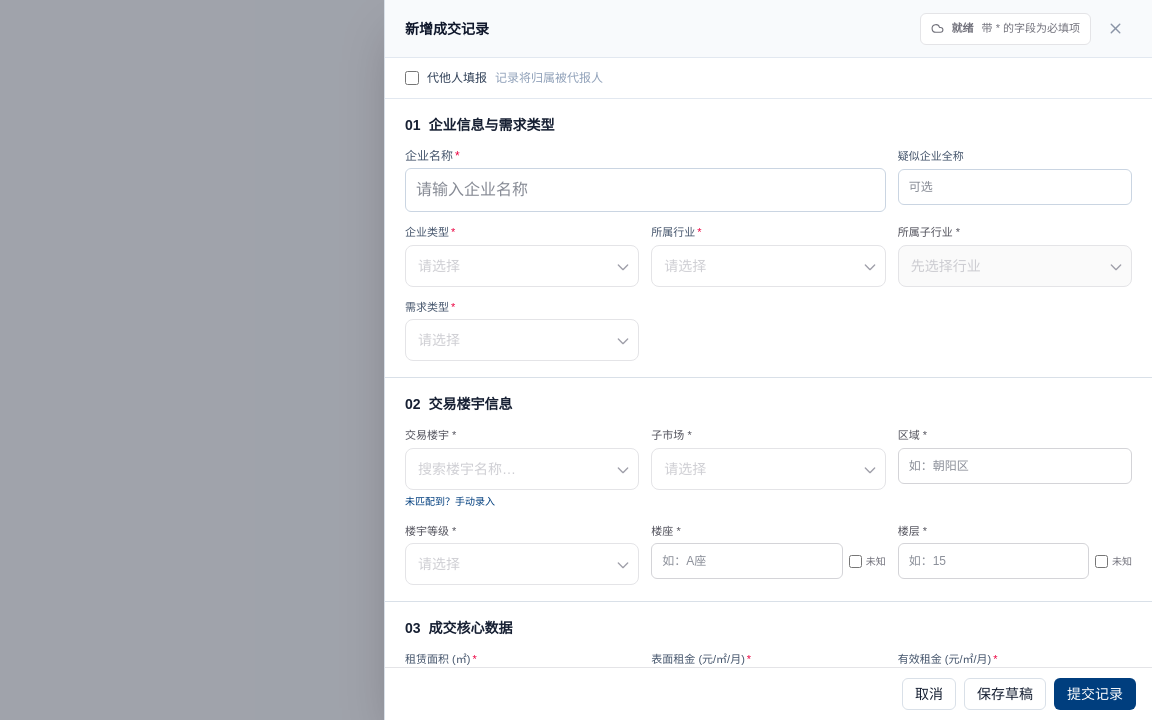
Test case: 新增成交的企业联想与近期成交 › offers history for an exact typed name without a selection and retries a failed read without clearing the name
Expected: the button "保存草稿" is enabled, [964,678,1046,710]
Type "手填企业" into the dropdown labelled "企业名称" at (645, 190), box [405,168,886,212]
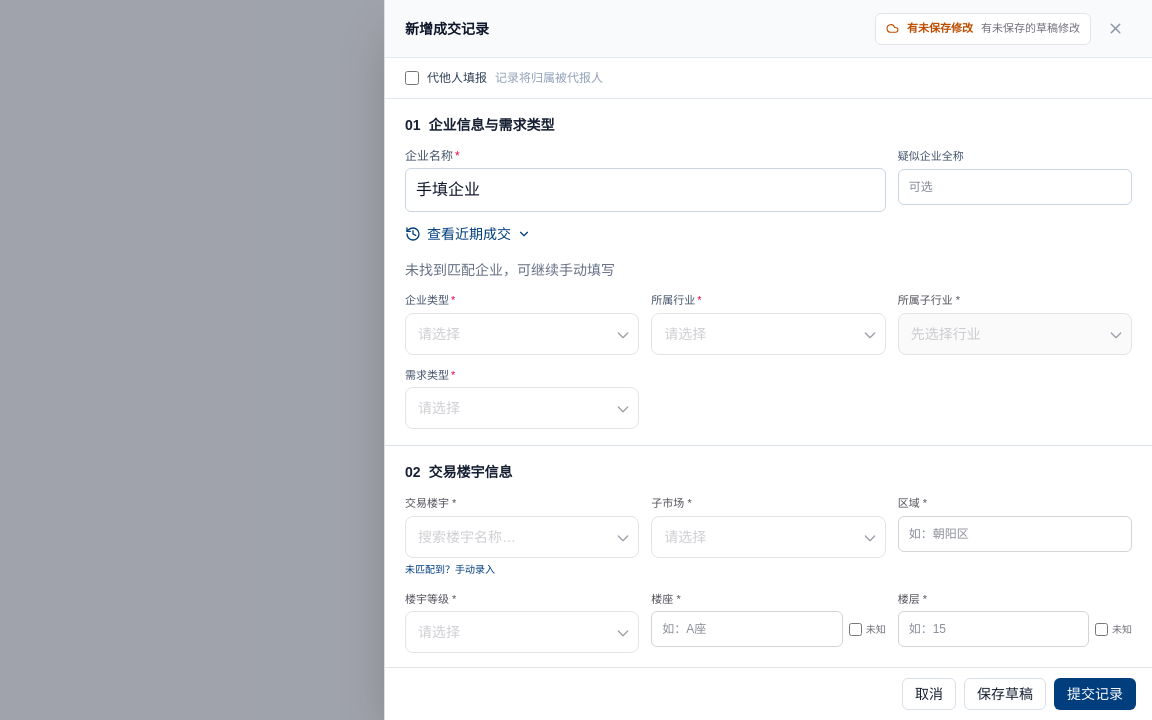
Click the button "查看近期成交" at (468, 234), box [405,212,531,256]
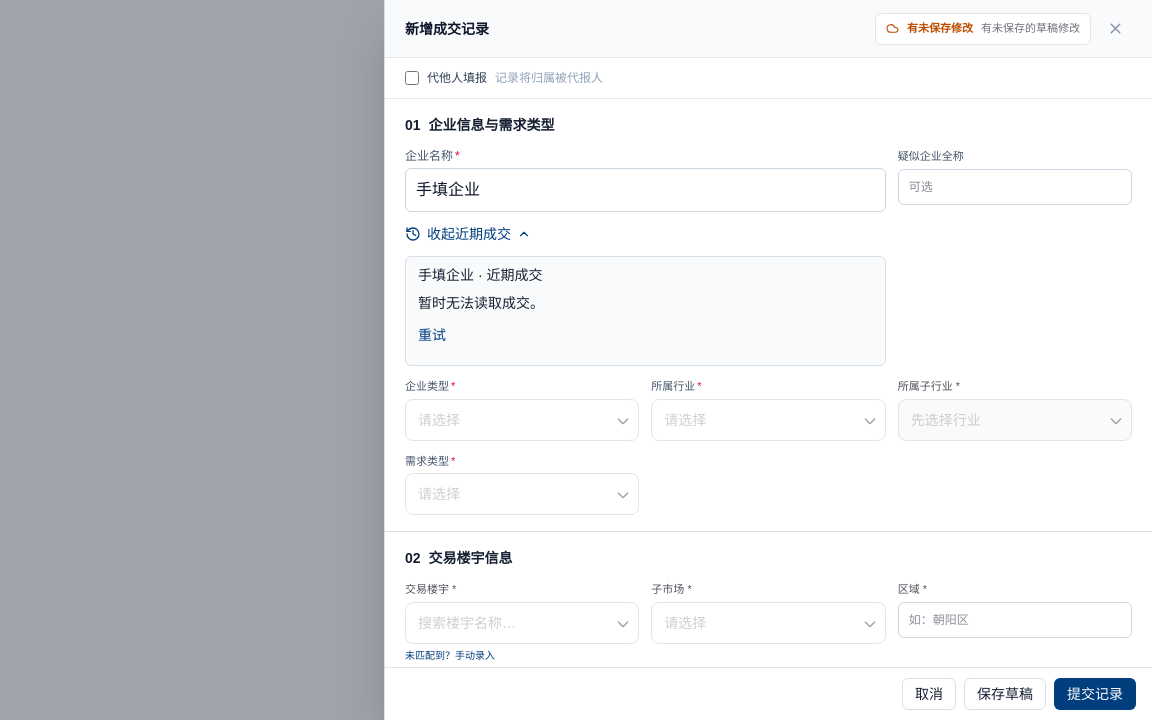
Expected: the text "暂时无法读取成交。" is shown, [418,295,544,311]
Click the button "重试" at (432, 335), box [418,313,446,357]
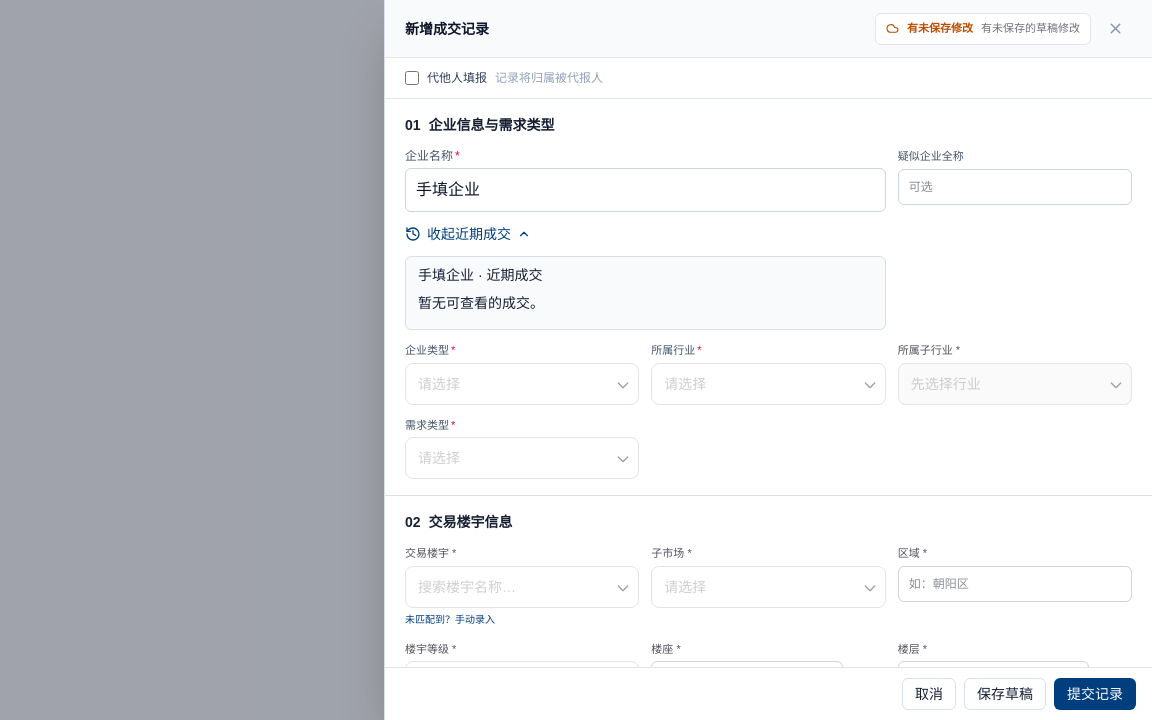
Expected: the text "暂无可查看的成交。" is shown, [418,295,544,311]
Replace the text in the dropdown labelled "企业名称" with "另一家企业" at (645, 190), box [405,168,886,212]
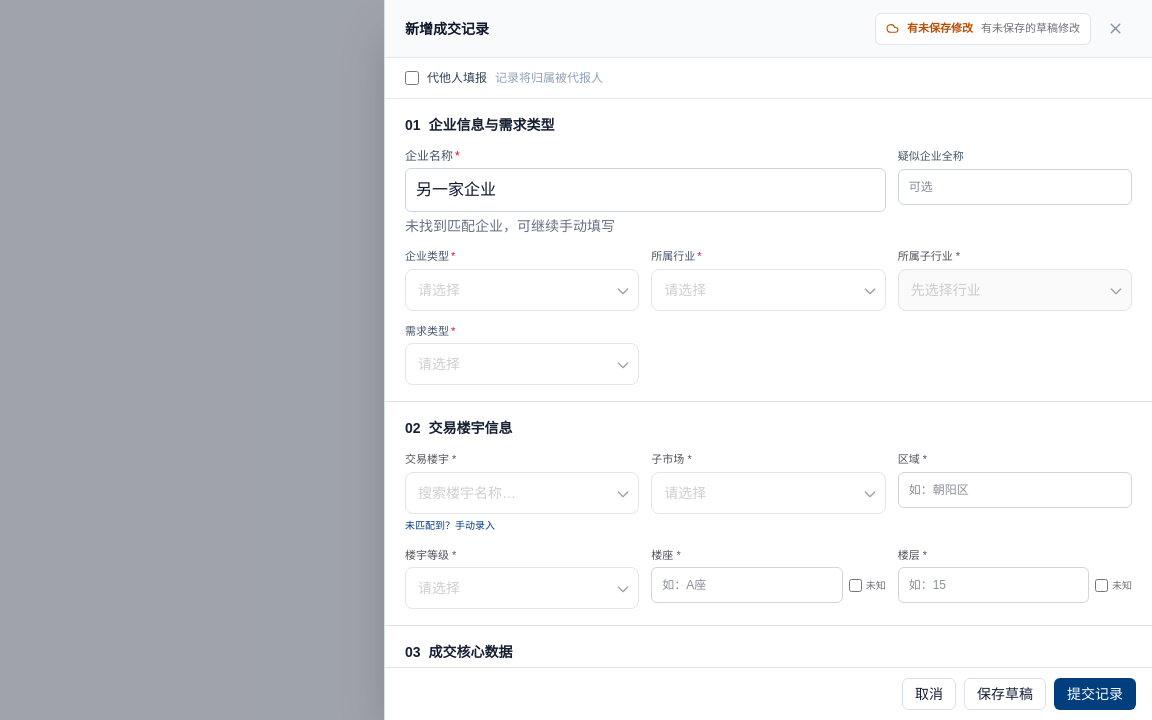
Expected: the button "查看近期成交" is not shown
Expected: the button "近期成交" is gone
